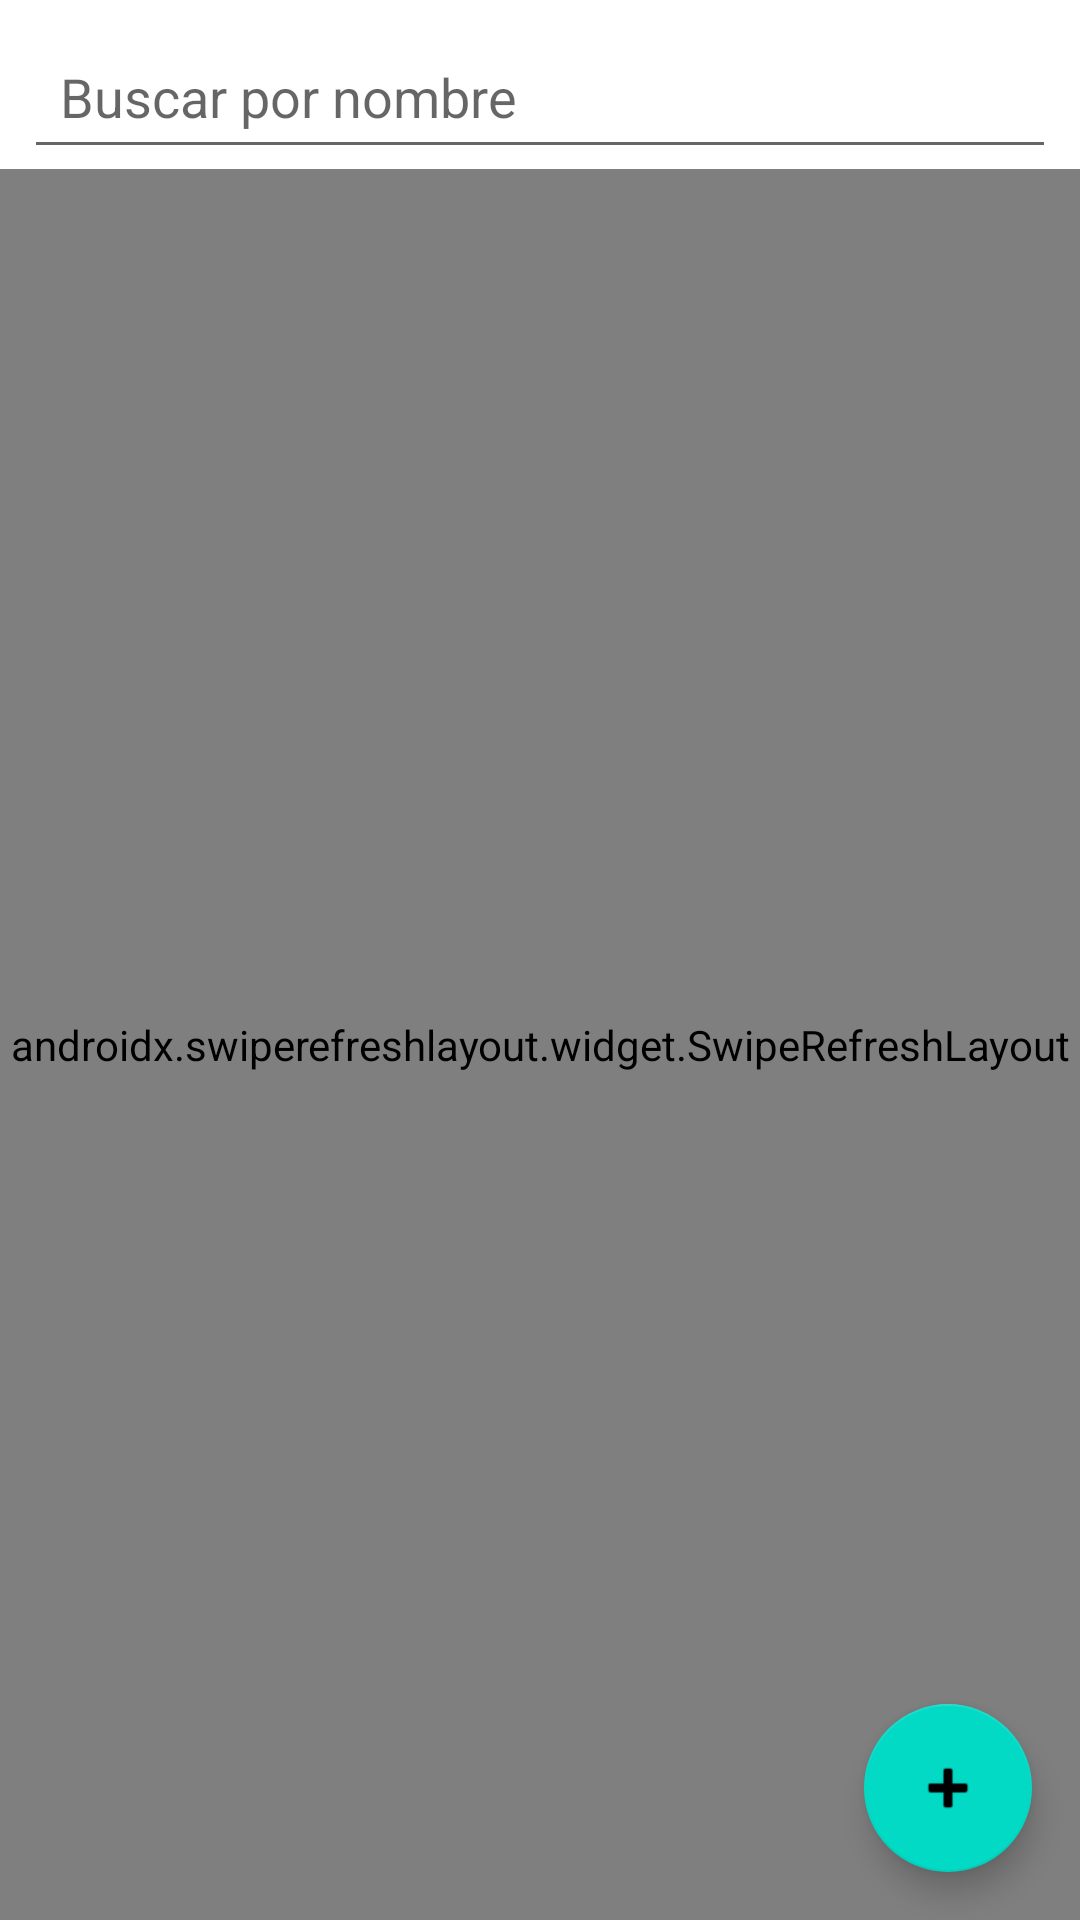

Screen size 1080w x 1920h. Icon name, then its box in pixels as [x1,y1,x2,y2]:
Agregar: [864,1704,1032,1872]
